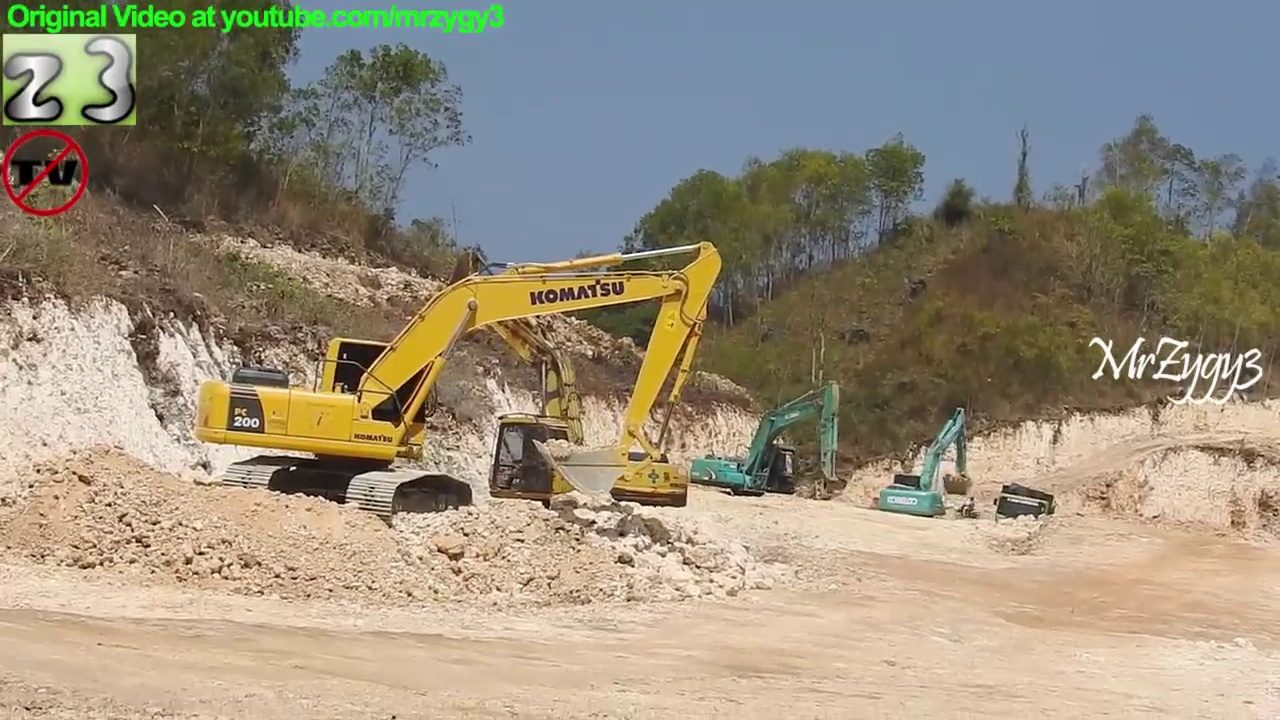excavator: (192, 237, 724, 536), (377, 245, 702, 530), (686, 378, 850, 513), (868, 403, 978, 530)
truck: (991, 476, 1061, 544)
